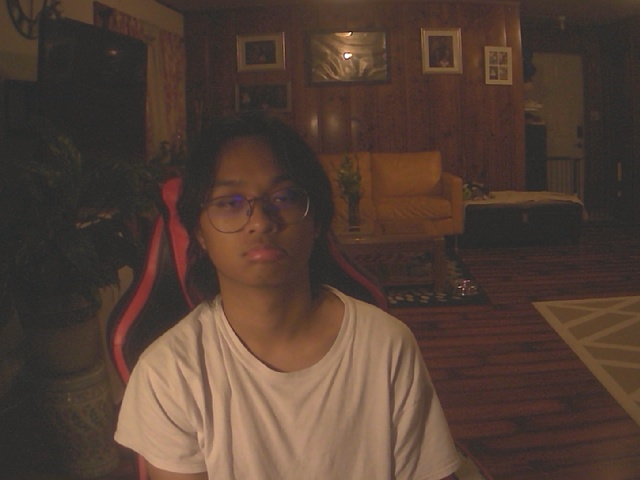sad: (175, 110, 334, 304)
